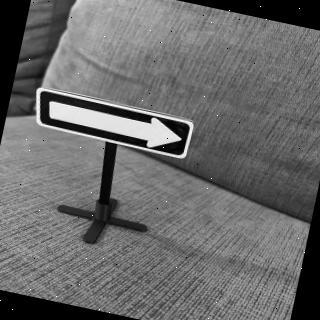sign_oneway_right: (28, 86, 197, 163)
